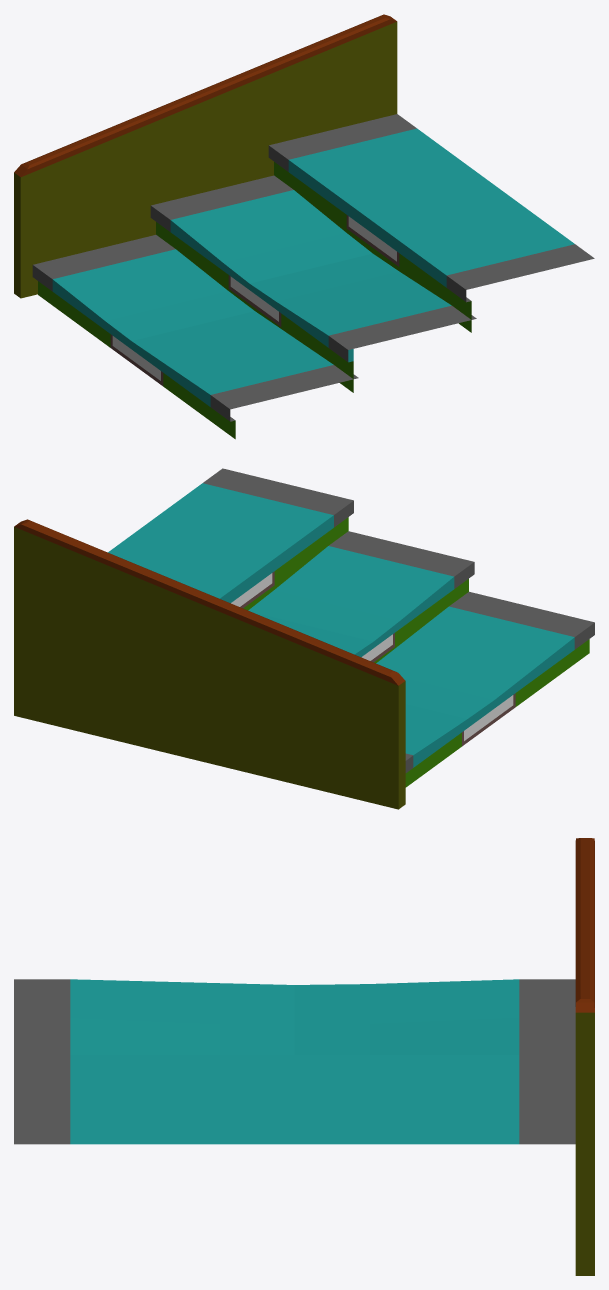
Rendered from fbx_Room_Stairs_Left_V1.3.fbx.
3 renders of one model, top to bottom at view 1: azimuth 30°, elevation 25°; view 2: azimuth 150°, elevation 25°; view 3: azimuth 270°, elevation 25°, orthographic. The views are drawn at different scales.
Visible parts, largest first — view 1: pCube73; view 2: pCube73; view 3: pCube73.
Boxes of the visible parts, left/top/right/bottom form: pCube73: left=14, top=14, right=594, bottom=439; pCube73: left=14, top=468, right=594, bottom=809; pCube73: left=14, top=838, right=594, bottom=1275.
Bounding box in the file's own units: 319 × 154 × 300.
